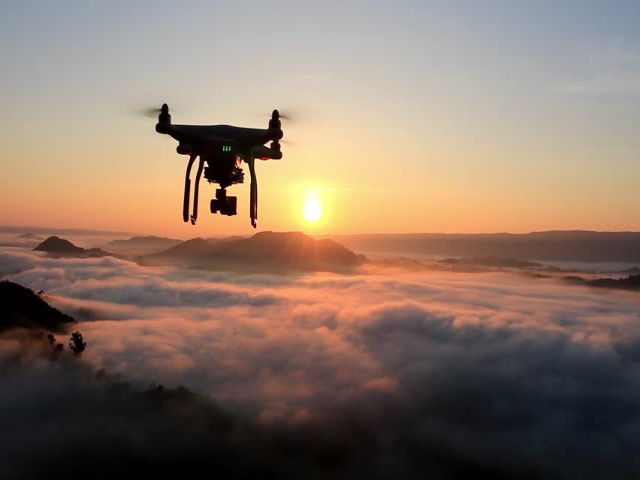drone: (126, 95, 304, 234)
